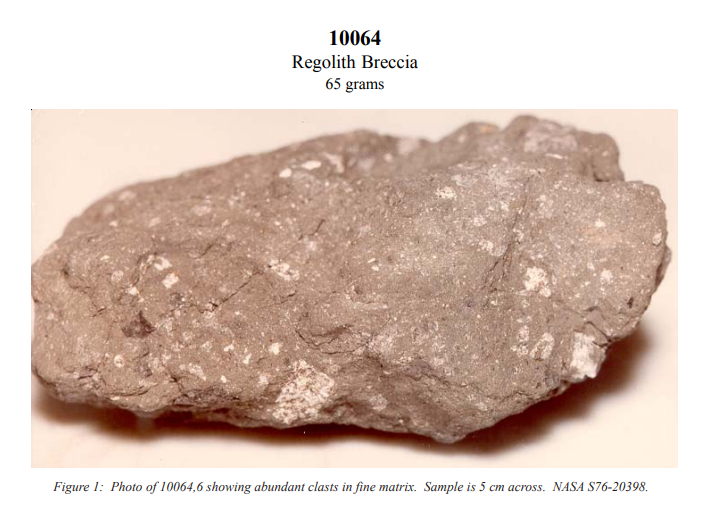Breccia: (34, 118, 653, 441), (167, 207, 595, 400)
